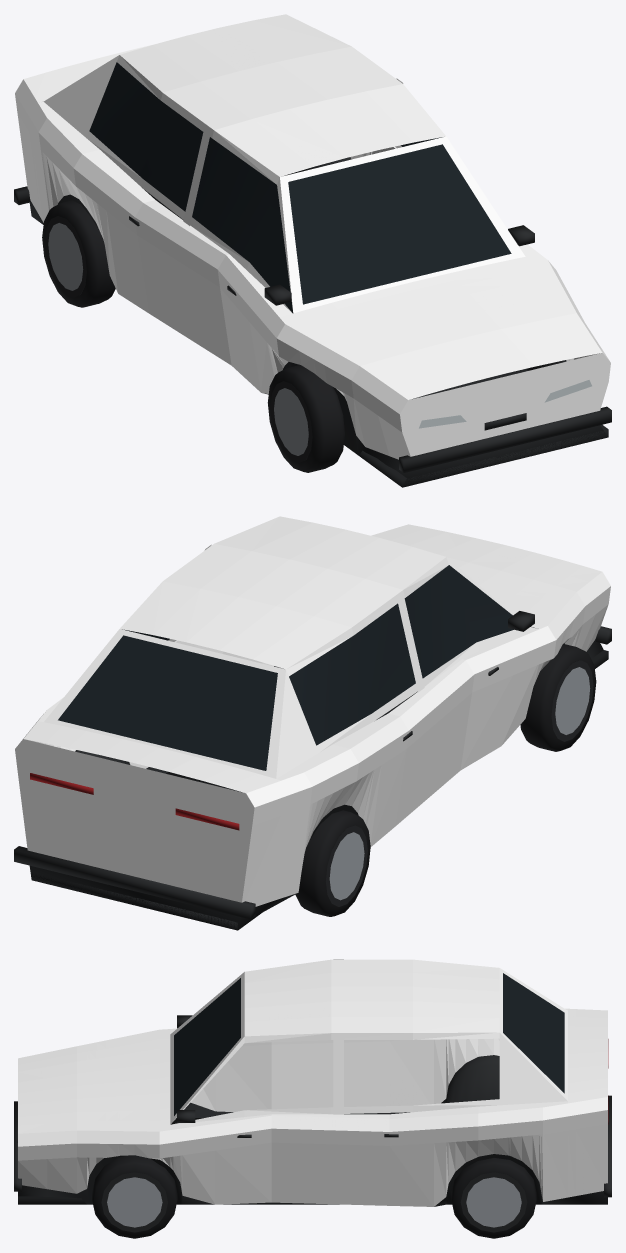
Rendered from morel_colmeia.glb.
The picture shows the model from 3 angles, top to bottom: view 1: azimuth 30°, elevation 25°; view 2: azimuth 150°, elevation 25°; view 3: azimuth 270°, elevation 25°; orthographic projection. The views are drawn at different scales.
Parts seen in each view (by area): view 1: Body_Paint, Body_Details, Mount_FrontLeft_Wheel_Details, Mount_RearLeft_Wheel_Details; view 2: Body_Paint, Body_Details, Mount_RearLeft_Wheel_Details, Mount_FrontLeft_Wheel_Details; view 3: Body_Paint, Body_Details, Mount_FrontRight_Wheel_Details, Mount_RearRight_Wheel_Details.
Part boxes in pixels (left/top/right/bottom): Body_Paint: left=15, top=14, right=610, bottom=459; Body_Details: left=14, top=62, right=611, bottom=487; Mount_FrontLeft_Wheel_Details: left=267, top=365, right=344, bottom=472; Mount_RearLeft_Wheel_Details: left=42, top=200, right=115, bottom=307; Body_Paint: left=15, top=516, right=610, bottom=906; Body_Details: left=14, top=565, right=611, bottom=930; Mount_RearLeft_Wheel_Details: left=295, top=810, right=370, bottom=916; Mount_FrontLeft_Wheel_Details: left=520, top=644, right=596, bottom=751; Body_Paint: left=18, top=959, right=607, bottom=1206; Body_Details: left=14, top=973, right=611, bottom=1206; Mount_FrontRight_Wheel_Details: left=92, top=1155, right=177, bottom=1238; Mount_RearRight_Wheel_Details: left=451, top=1158, right=536, bottom=1238.
Size of the model in its own units: 1.84 by 1.49 by 4.2.
2 materials, 1 textured.
